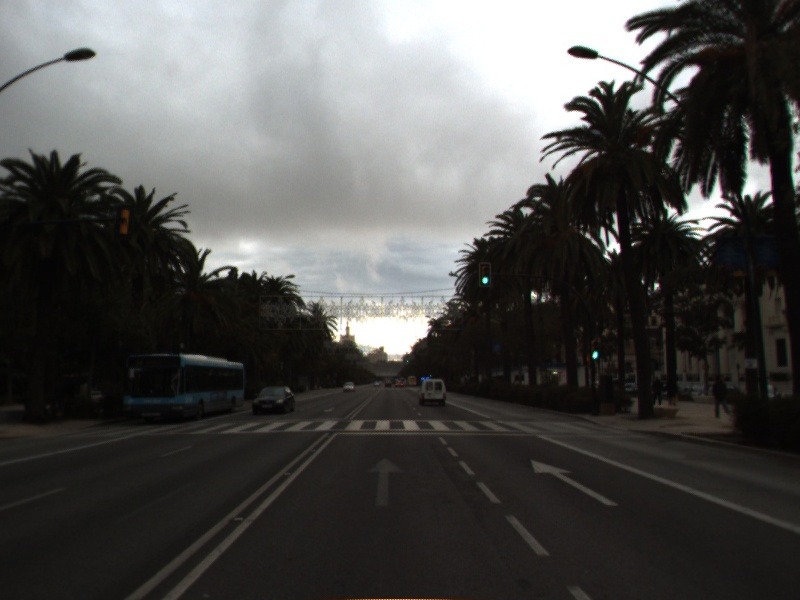STRAIGHT: (528, 457, 623, 508), (364, 455, 407, 509)
